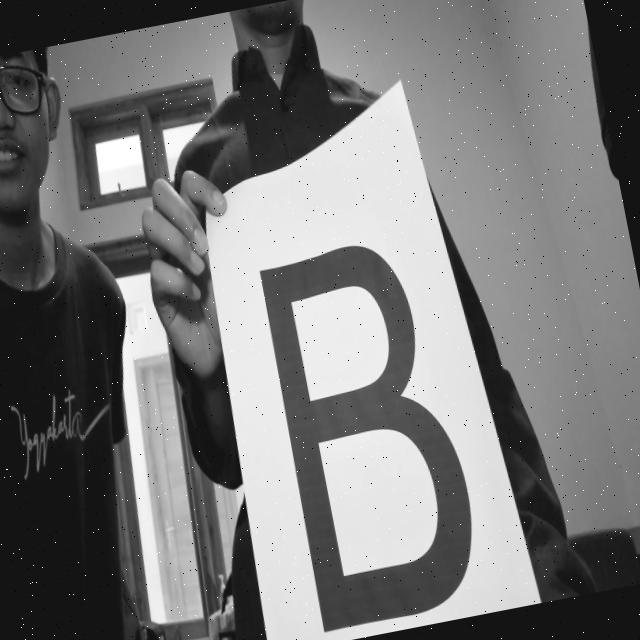b: (254, 230, 499, 633)
